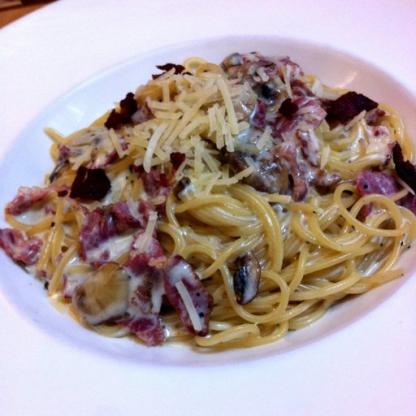pasta: (44, 62, 415, 349)
